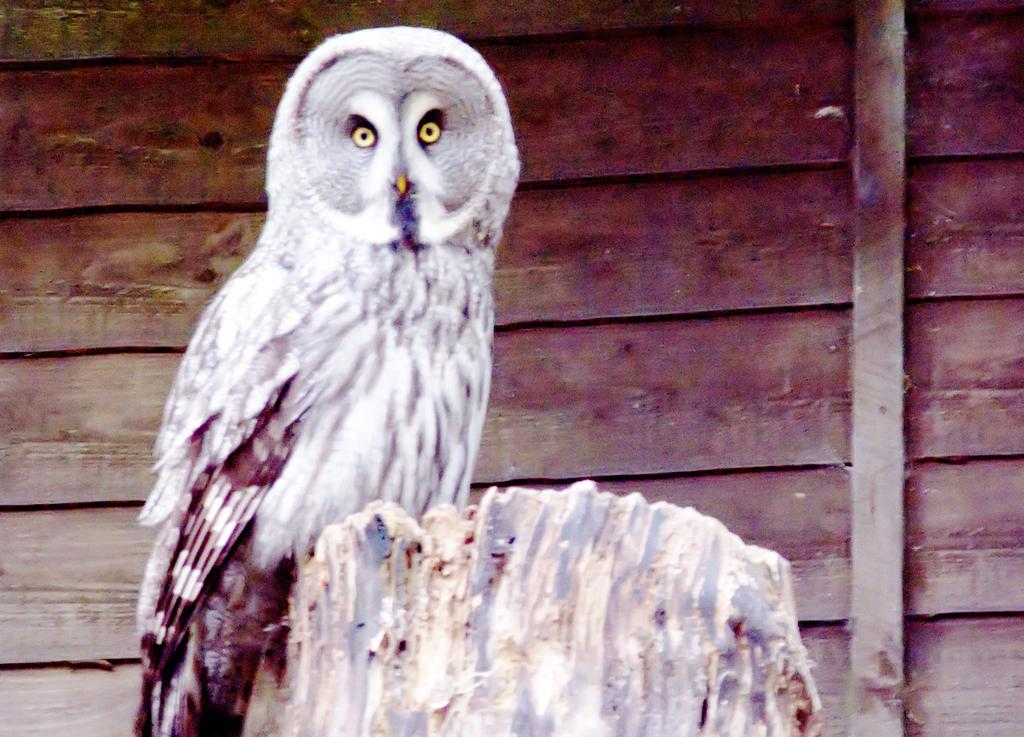Owl: (136, 27, 520, 737)
